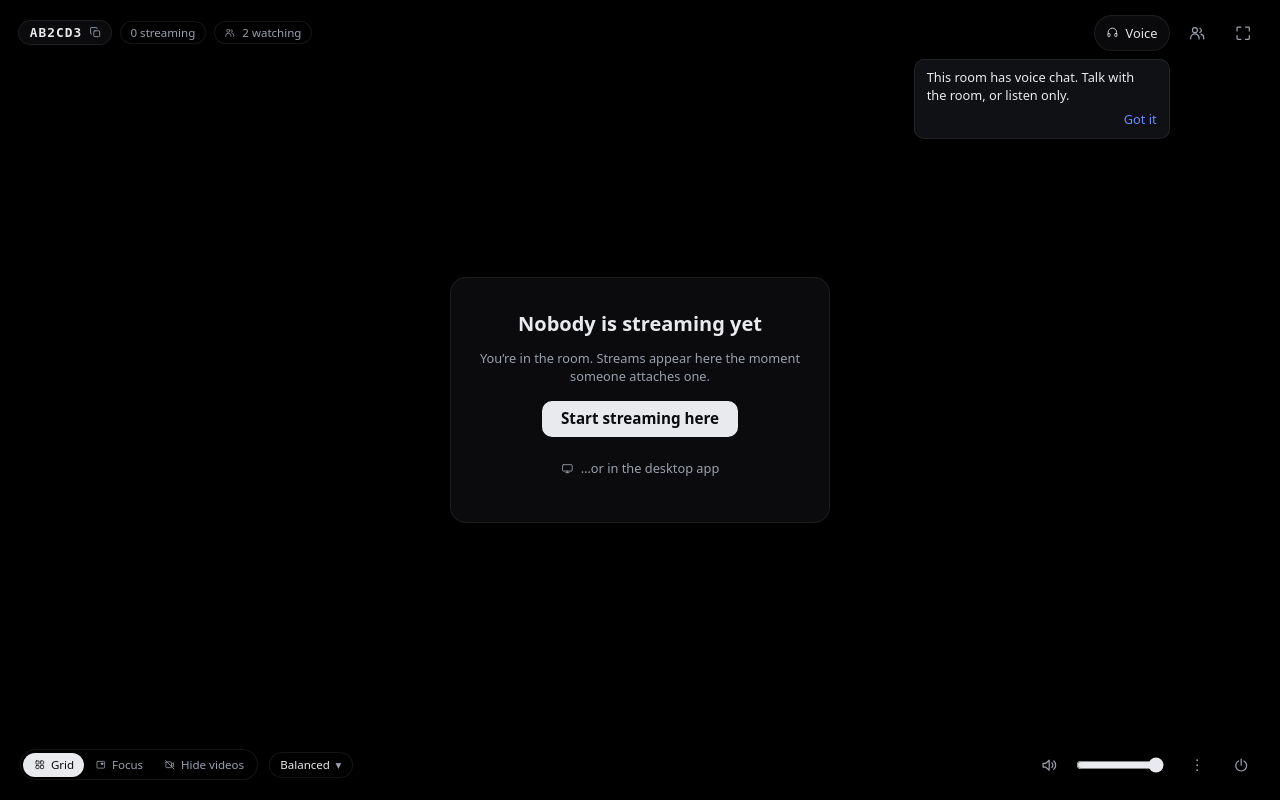
room voice UI, R81 › the one-time hint: nobody in voice, never with the chip, gone for good on Got it
Expected: the message with test id "voice-hint" shows "This room has voice chat. Talk with the room, or listen only.", [927,68,1134,104]
Click the button "Got it". click: coordinates (1140, 120)
box: [1124,111,1157,129]
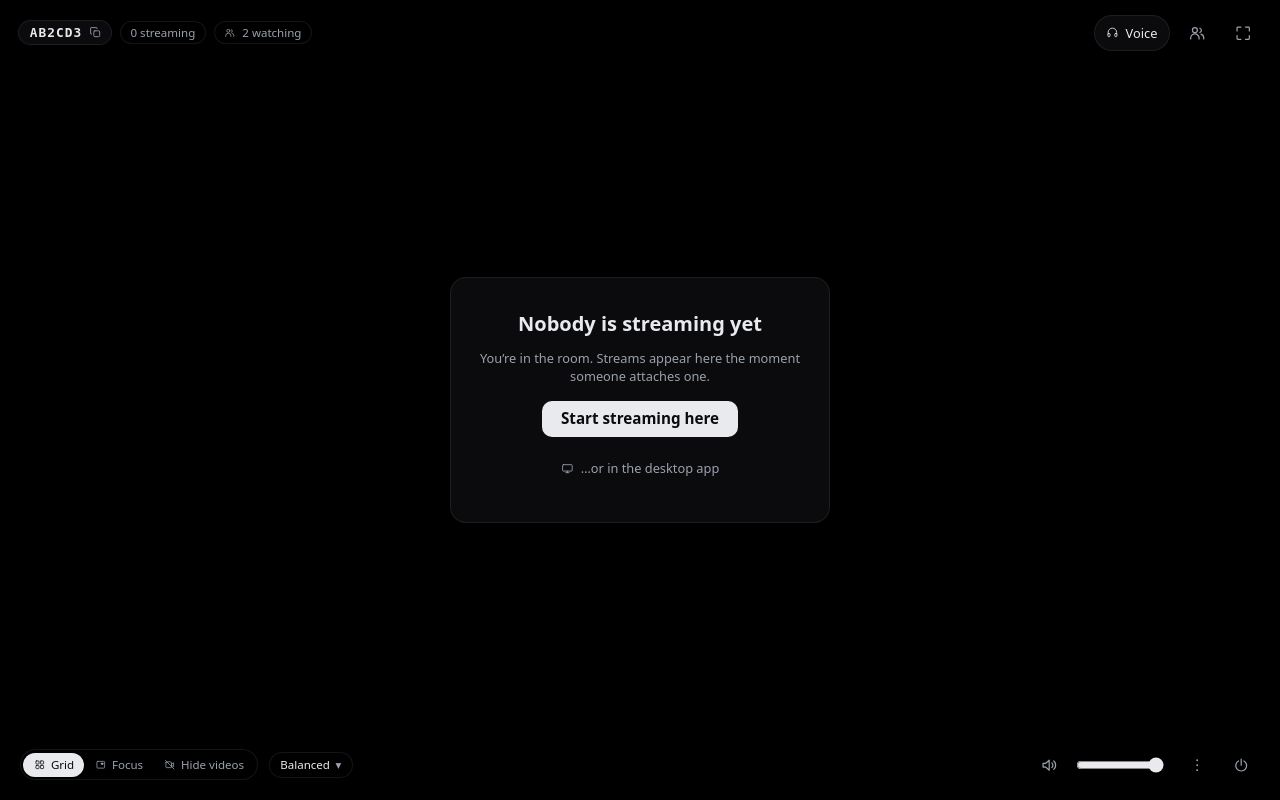
Now the message with test id "voice-hint" is gone
